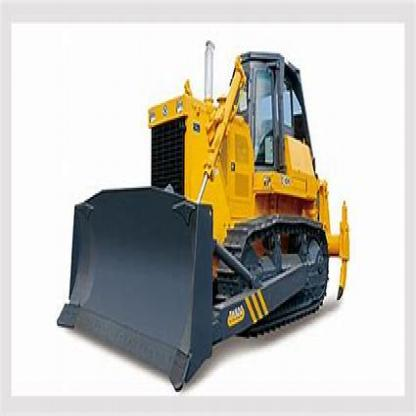bull_dozer/loader/grader: (56, 33, 352, 390)
